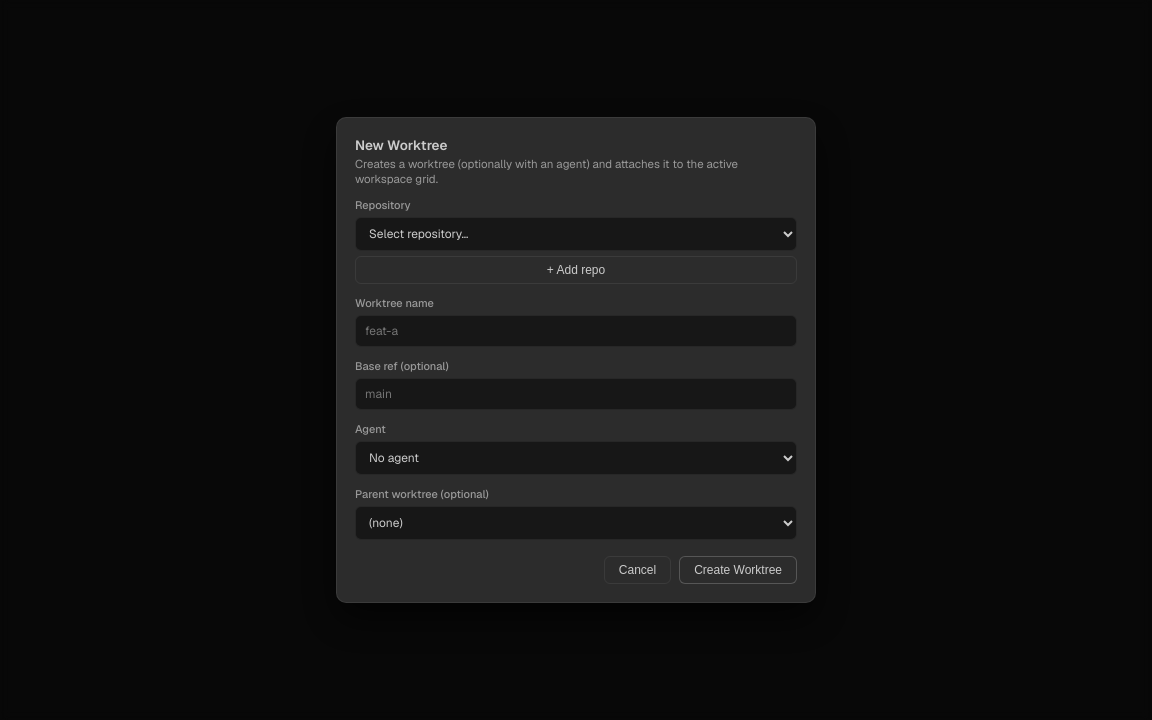
Test: WorktreeCreateModal › custom-command profile reveals a command input instead of the prompt
The width and height of the screenshot is (1152, 720).
Step 1. Select "Custom command" in the dropdown labelled "Agent" → {"x": 576, "y": 458}, box [355, 441, 797, 475]
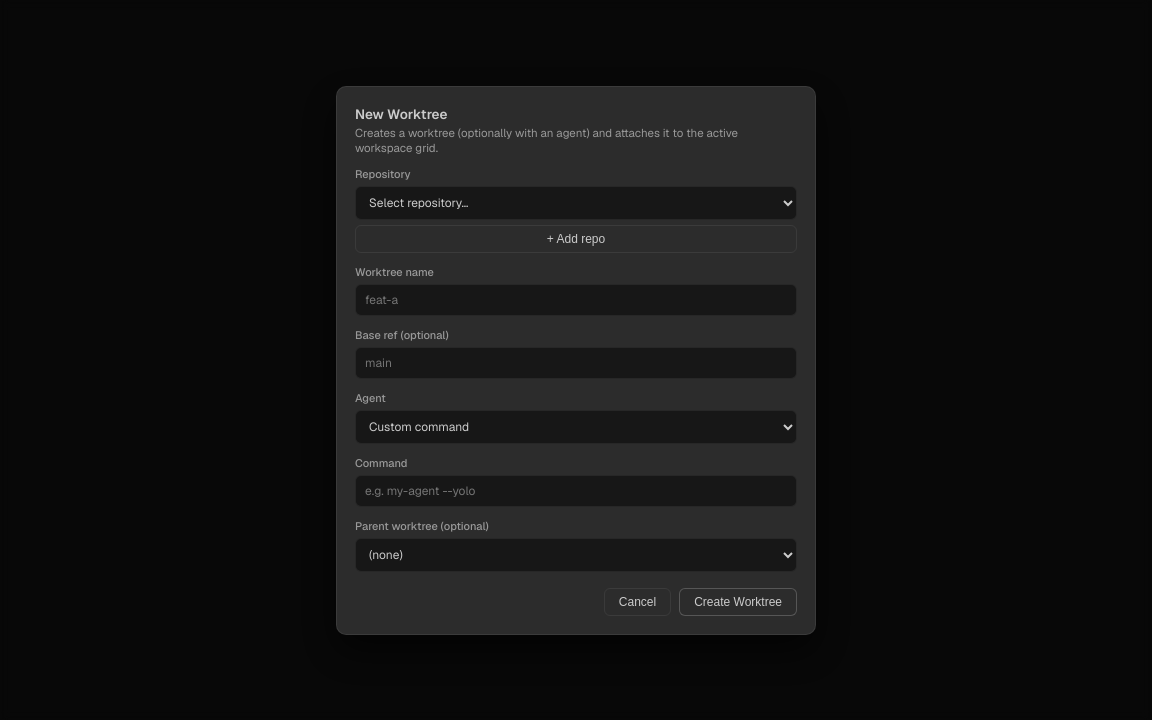
Expected: the field labelled "Command" is shown, [355, 474, 797, 506]
